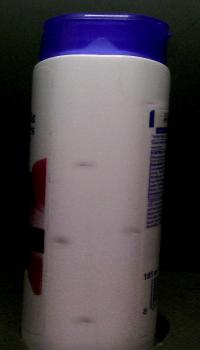dent_marginal: (60, 300, 109, 332), (66, 154, 102, 172), (138, 96, 171, 115), (47, 231, 81, 249), (125, 225, 154, 243)
